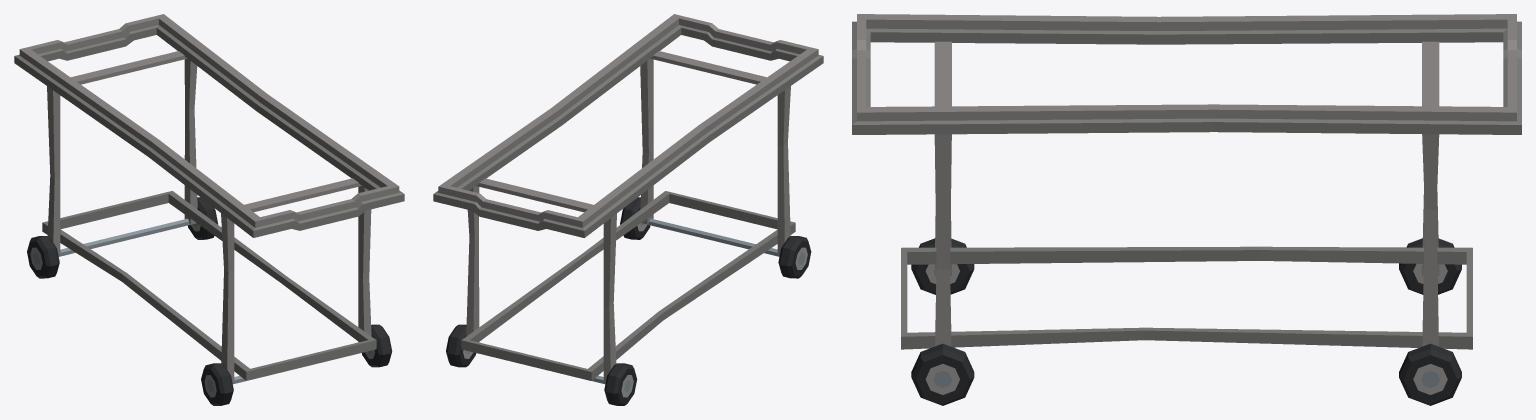
Rendered from SM_Prop_Furnace_Tray_Stand_01.fbx.
The picture shows the model from 3 angles, left to right: view 1: azimuth 30°, elevation 25°; view 2: azimuth 150°, elevation 25°; view 3: azimuth 270°, elevation 25°; orthographic projection. The views are drawn at different scales.
Visible parts, largest first — view 1: SM_Prop_Furnace_Tray_Stand_01; view 2: SM_Prop_Furnace_Tray_Stand_01; view 3: SM_Prop_Furnace_Tray_Stand_01.
Boxes of the visible parts, x1,y1,x2,y2 form: SM_Prop_Furnace_Tray_Stand_01: (14, 14, 404, 405); SM_Prop_Furnace_Tray_Stand_01: (433, 14, 823, 405); SM_Prop_Furnace_Tray_Stand_01: (852, 14, 1521, 405).
Size of the model in its own units: 77.95 by 88.38 by 188.
Materials: 1 (1 with a texture image).
